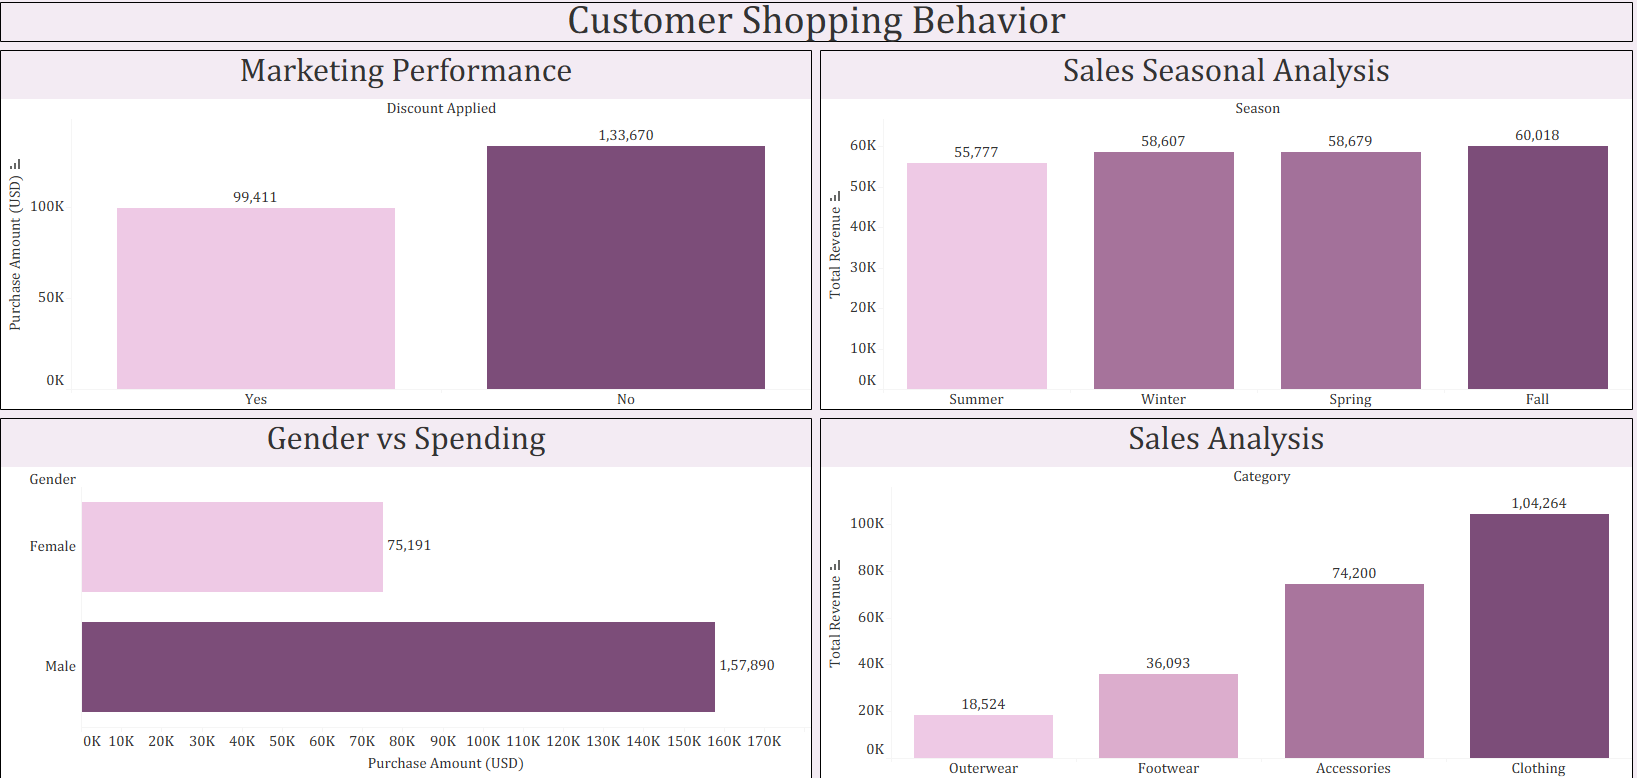

What the dashboard file says about the page in this screenshot:
{"tool":"tableau","page":{"name":"Dashboard 1","canvas":[1000,1000],"units":"permille","ordinal":0},"visuals":[{"type":"title","box":[4.8,10,990.3,59.9]},{"type":"worksheet","title":"Whether Discounts Increase Sales","mark":"Automatic","rows":["Purchase Amount (USD)"],"cols":["Discount Applied"],"box":[4.8,69.9,495.1,460]},{"type":"worksheet","title":"Top Performing Product Segments Seasonal","mark":"Automatic","rows":["Calculation_2249924332929024"],"cols":["Season"],"box":[499.9,69.9,495.3,460]},{"type":"worksheet","title":"Who Spends More","mark":"Automatic","rows":["Gender"],"cols":["Purchase Amount (USD)"],"box":[4.8,530,495.1,460.1]},{"type":"worksheet","title":"Top Performing Product Segments","mark":"Automatic","rows":["Calculation_2249924332929024"],"cols":["Category"],"box":[499.9,530,495.3,460.1]}]}

Visuals, with their boxes on the dashboard's canvas, which has no fixed pixel size, in thousandths of its width and height (x1, y1, x2, y2). These are canvas units, not pixel positions in the 1637x778 screenshot, which may show the page scaled, cropped or inside an application window:
title: box=[5, 10, 995, 70]
"Whether Discounts Increase Sales" worksheet: box=[5, 70, 500, 530]
"Top Performing Product Segments Seasonal" worksheet: box=[500, 70, 995, 530]
"Who Spends More" worksheet: box=[5, 530, 500, 990]
"Top Performing Product Segments" worksheet: box=[500, 530, 995, 990]
